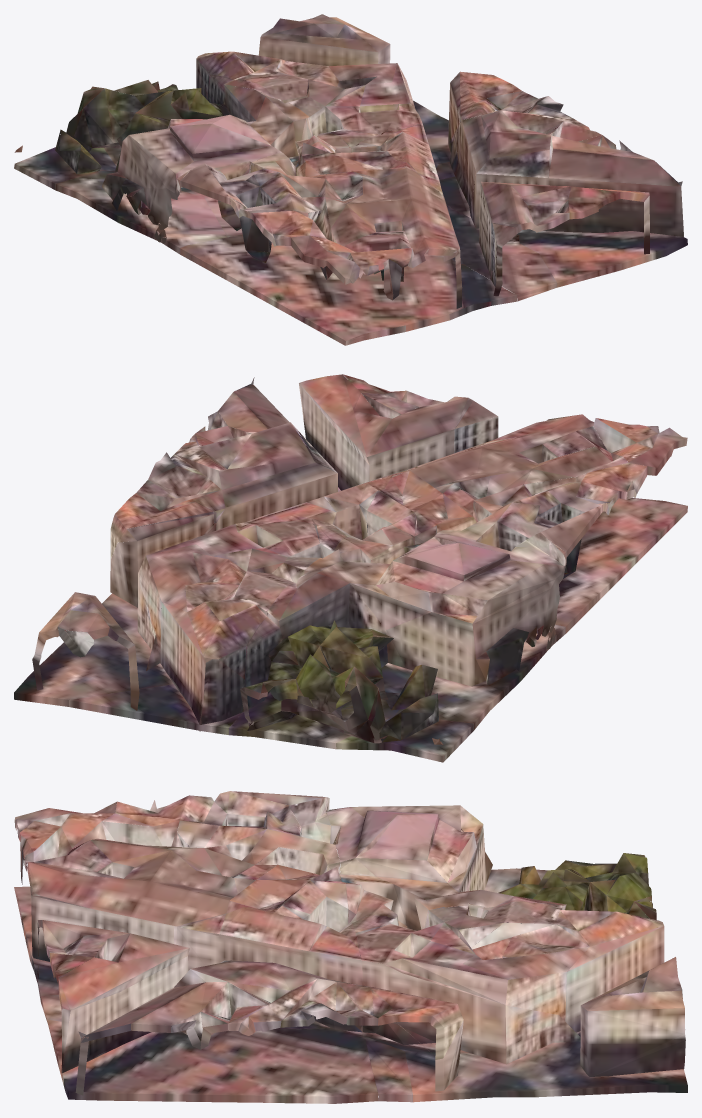
The picture shows the model from 3 angles, top to bottom: view 1: azimuth 30°, elevation 25°; view 2: azimuth 150°, elevation 25°; view 3: azimuth 270°, elevation 25°; orthographic projection. The views are drawn at different scales.
Parts seen in each view (by area): view 1: Mesh_0; view 2: Mesh_0; view 3: Mesh_0.
Boxes of the visible parts, <box> form: Mesh_0: <box>14,14,687,345</box>; Mesh_0: <box>14,374,687,762</box>; Mesh_0: <box>14,791,687,1103</box>.
Size of the model in its own units: 133 by 34.6 by 165.
2 materials, 2 textured.
